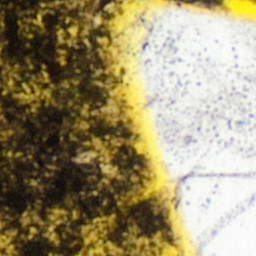cement_matrix: (0, 0, 171, 255), (94, 145, 115, 176), (179, 0, 219, 4), (89, 15, 103, 25), (81, 153, 94, 160), (138, 240, 146, 250)
cracks: (102, 0, 255, 255), (153, 247, 156, 249)
gravel_crushed_stones: (129, 5, 255, 255), (85, 230, 115, 255), (95, 146, 114, 175), (90, 16, 102, 24), (0, 237, 6, 248), (82, 154, 93, 159), (139, 241, 145, 249)
